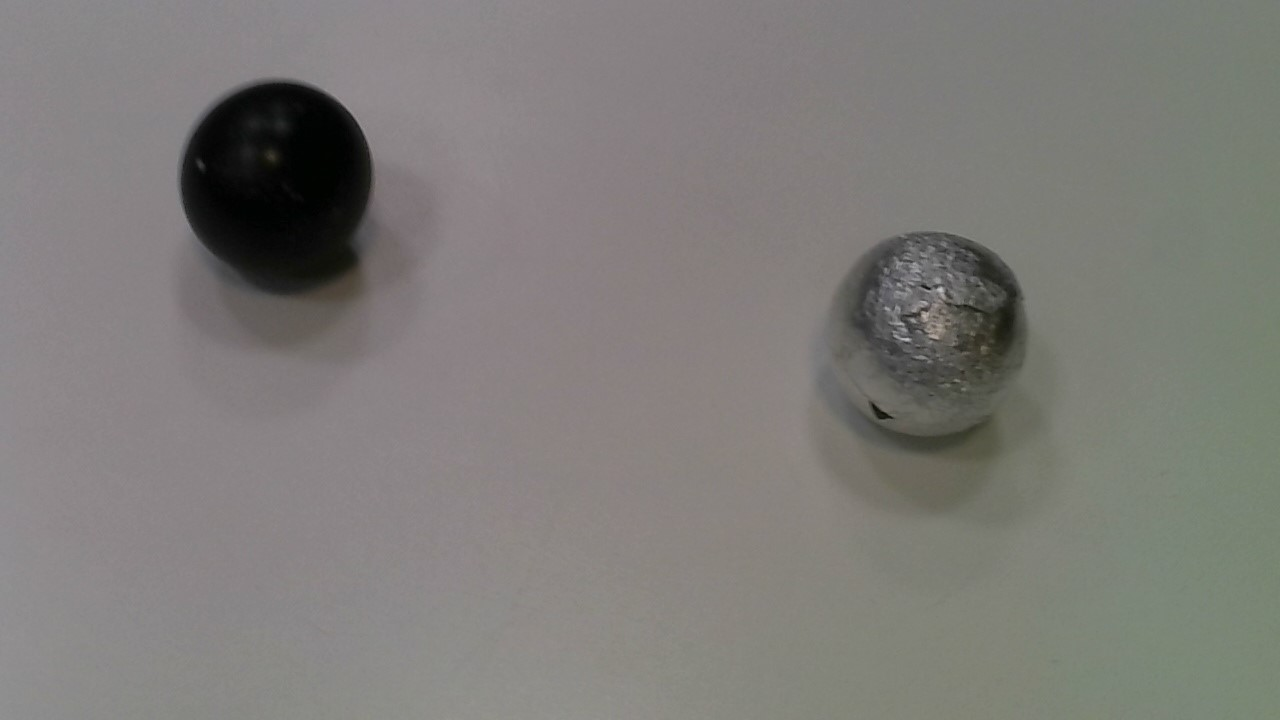black_ball: (173, 76, 390, 279)
silver_ball: (822, 225, 1033, 452)
